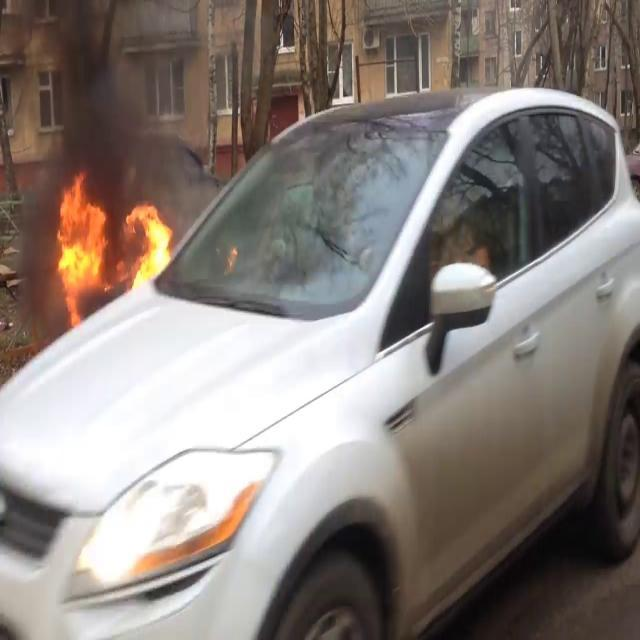Fire: (50, 170, 111, 314), (124, 194, 177, 290)
Smoke: (2, 1, 204, 218)
